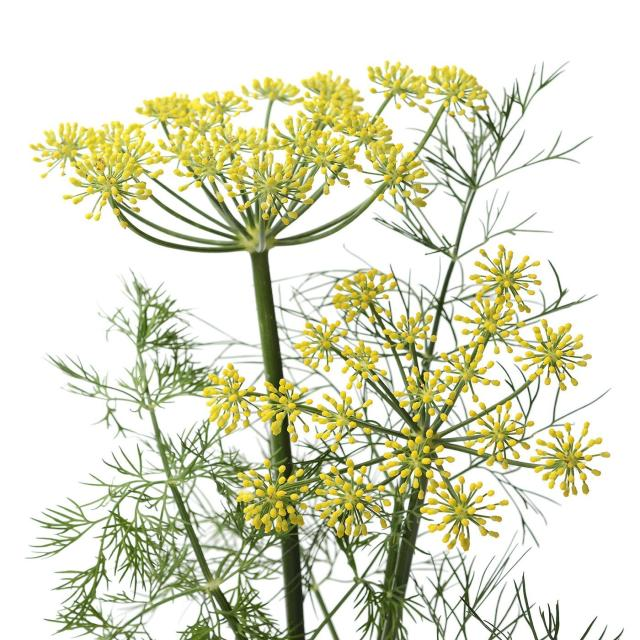Dill: (21, 57, 640, 640)
